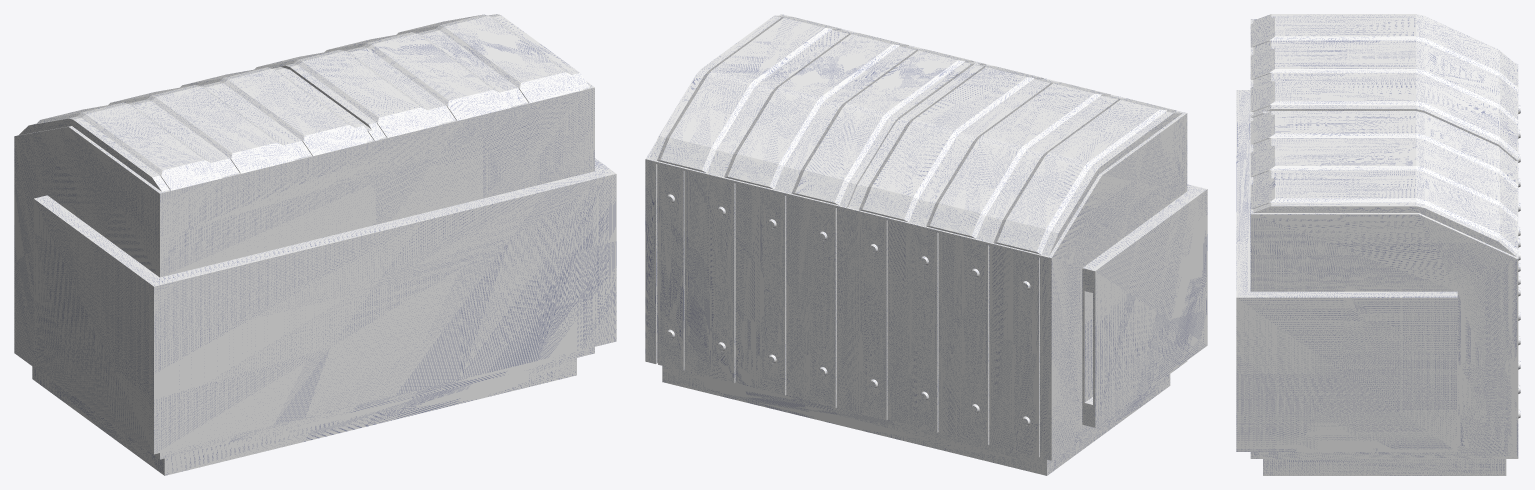
The model's file is Dumpster.dae.
3 renders of one model, left to right at view 1: azimuth 30°, elevation 25°; view 2: azimuth 150°, elevation 25°; view 3: azimuth 270°, elevation 25°, orthographic. The views are drawn at different scales.
Visible parts, largest first — view 1: group_0 (×2); view 2: group_0 (×3); view 3: group_0 (×2).
Part boxes in pixels (left/top/right/bottom): group_0 (×2): left=14, top=14, right=616, bottom=475; group_0 (×3): left=645, top=14, right=1207, bottom=475; group_0 (×2): left=1236, top=14, right=1518, bottom=475.
Size of the model in its own units: 79.53 by 46.06 by 49.21.
